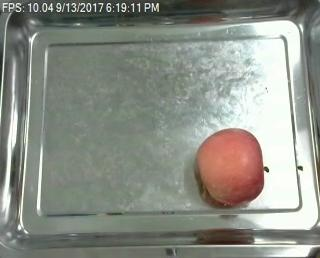apple: (194, 127, 270, 207)
